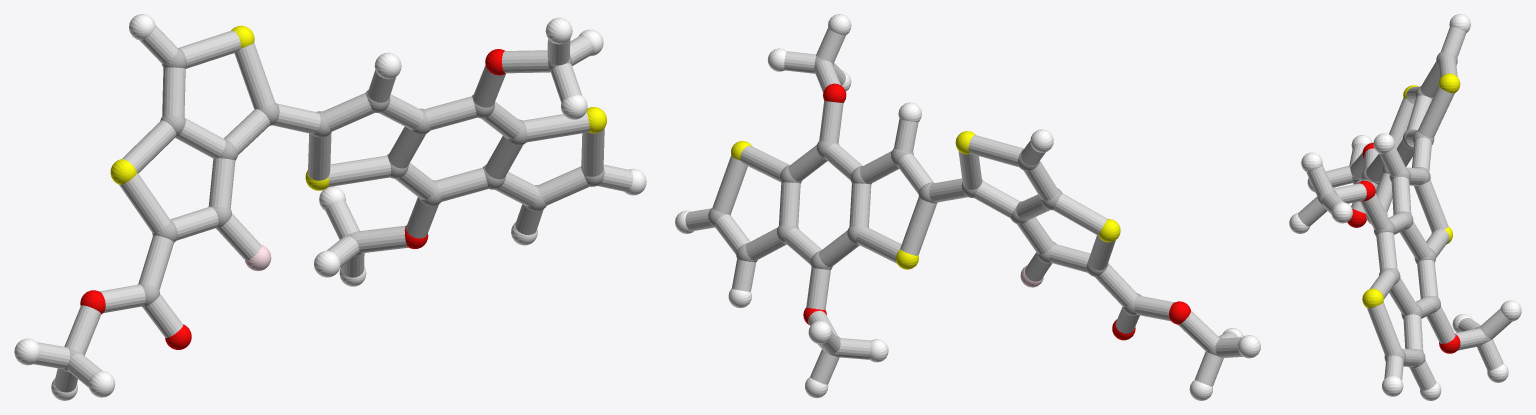
The model's file is color.glb.
The picture shows the model from 3 angles, left to right: view 1: azimuth 30°, elevation 25°; view 2: azimuth 150°, elevation 25°; view 3: azimuth 270°, elevation 25°; orthographic projection. The views are drawn at different scales.
Visible parts, largest first — view 1: grp15205, grp8689, grp1, grp13395, grp7241; view 2: grp15205, grp8689, grp1, grp7241, grp13395; view 3: grp15205, grp8689, grp1, grp7241, grp13395.
Part boxes in pixels (x1,y1,x2,y2): grp15205: (33,25,633,392); grp8689: (14,14,646,400); grp1: (63,48,604,372); grp13395: (80,49,505,349); grp7241: (110,25,606,190); grp15205: (685,28,1242,386); grp8689: (675,14,1260,400); grp1: (708,56,1222,356); grp7241: (731,131,1120,269); grp13395: (803,83,1190,340); grp15205: (1298,26,1512,390); grp8689: (1289,14,1521,400); grp1: (1317,51,1491,368); grp7241: (1362,73,1460,308); grp13395: (1347,142,1460,353).
Size of the model in its own units: 16.7 by 8.5 by 6.49.
